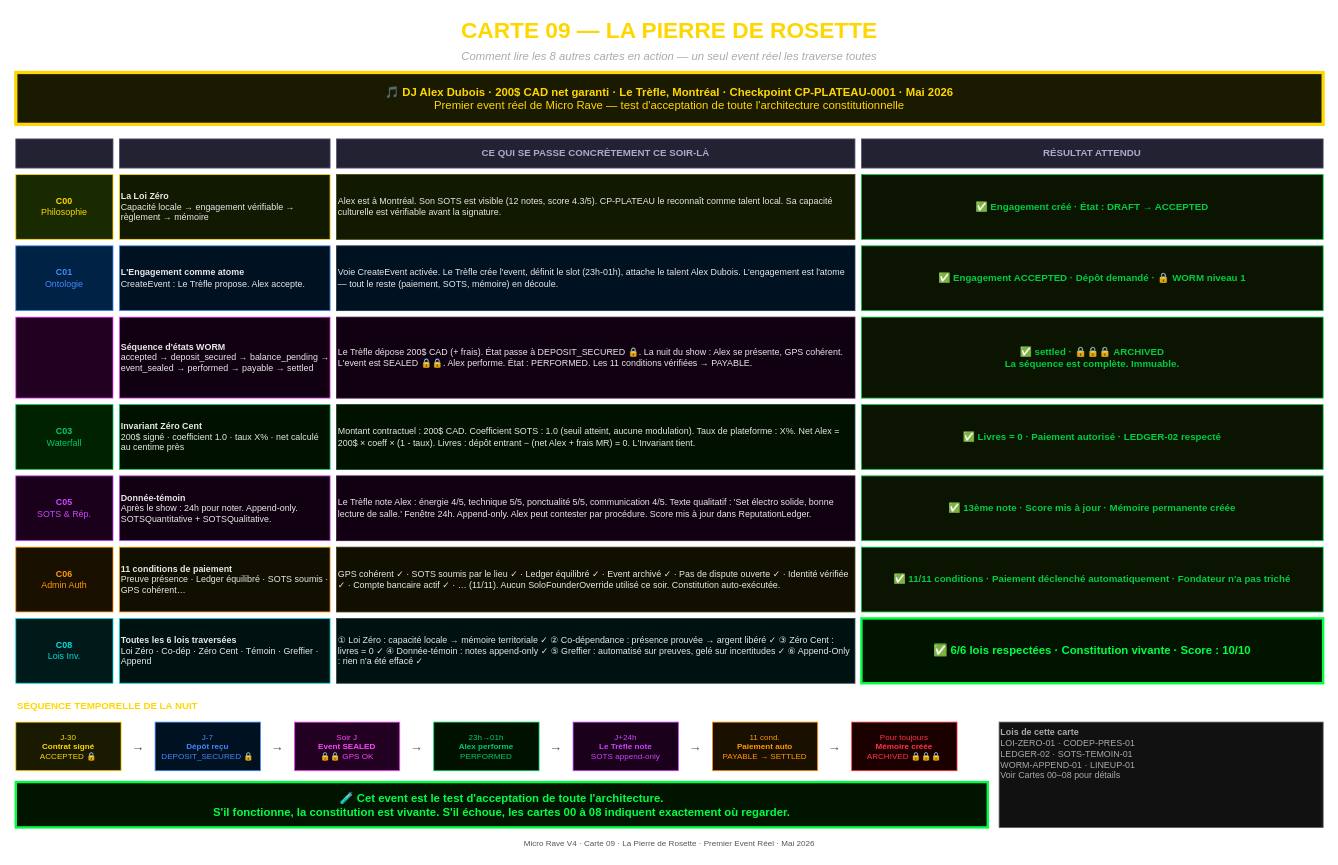
Image size: 1338x865. Some labels were removed from this diagram. The centre of each missing label's shape, as x and y in pixels:
C02 Machine État: (64,357)
CARTE: (64,153)
LOI / PRINCIPE: (224,153)
